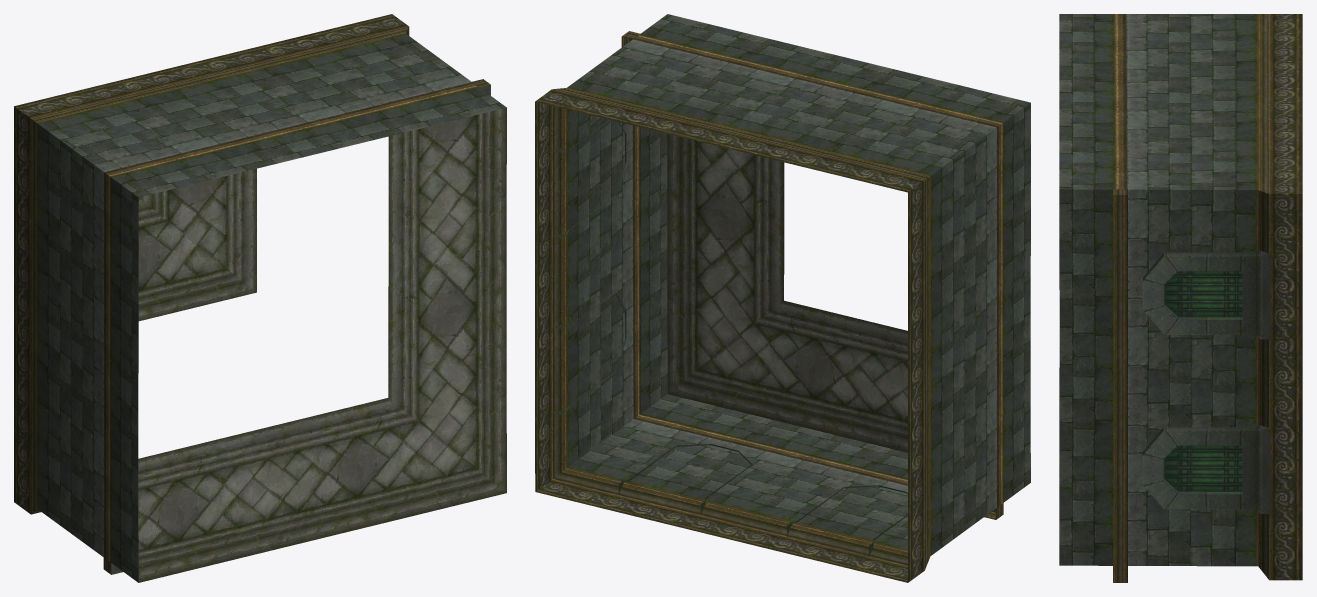
The model's file is zhanchan_fuben_367_chengqiang_b.obj.
3 renders of one model, left to right at view 1: azimuth 30°, elevation 25°; view 2: azimuth 150°, elevation 25°; view 3: azimuth 270°, elevation 25°, orthographic. The views are drawn at different scales.
Visible parts, largest first — view 1: zhanchan_fuben_367_chengqiang_b; view 2: zhanchan_fuben_367_chengqiang_b; view 3: zhanchan_fuben_367_chengqiang_b.
Part boxes in pixels (x1,y1,x2,y2): zhanchan_fuben_367_chengqiang_b: (14, 14, 506, 582); zhanchan_fuben_367_chengqiang_b: (535, 14, 1030, 582); zhanchan_fuben_367_chengqiang_b: (1059, 14, 1302, 582).
Size of the model in its own units: 528 by 528 by 300.
4 materials, 4 textured.
